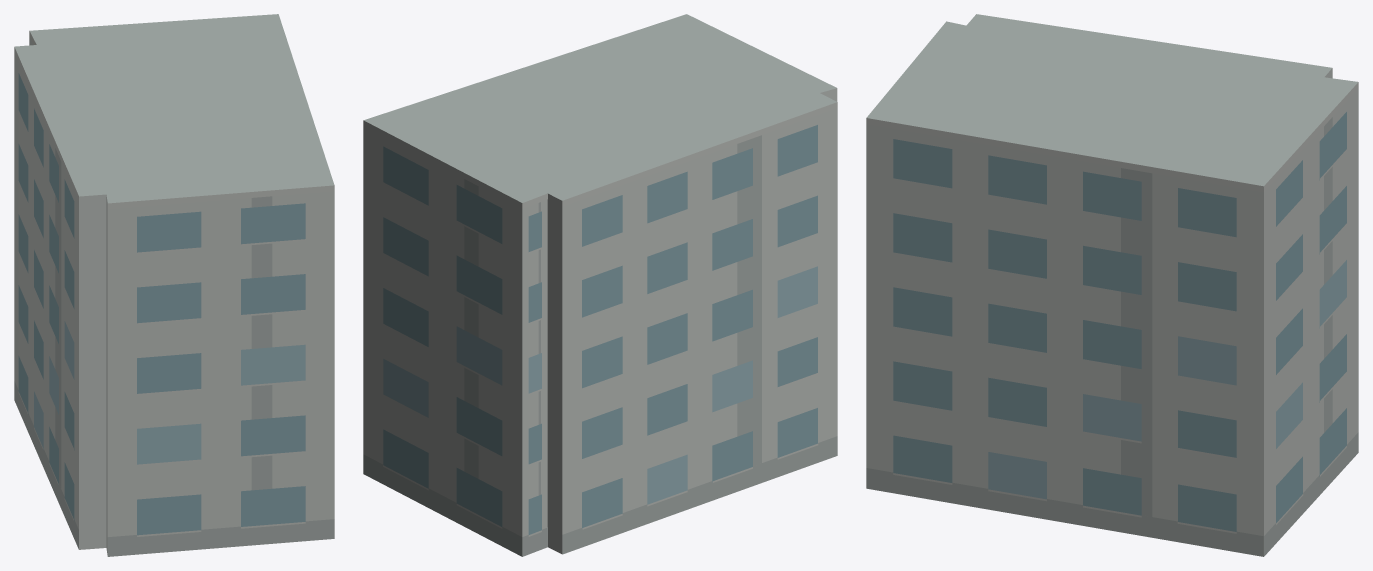
Rendered from survey-upis-32887498.glb.
The picture shows the model from 3 angles, left to right: view 1: azimuth 30°, elevation 25°; view 2: azimuth 150°, elevation 25°; view 3: azimuth 270°, elevation 25°; orthographic projection. The views are drawn at different scales.
Parts seen in each view (by area): view 1: survey-upis-32887498.tmp; view 2: survey-upis-32887498.tmp; view 3: survey-upis-32887498.tmp.
Part boxes in pixels (x1,y1,x2,y2): survey-upis-32887498.tmp: [14, 14, 334, 556]; survey-upis-32887498.tmp: [363, 14, 837, 556]; survey-upis-32887498.tmp: [866, 14, 1358, 556].
Bounding box in the file's own units: 14.41 × 14.45 × 17.41.
